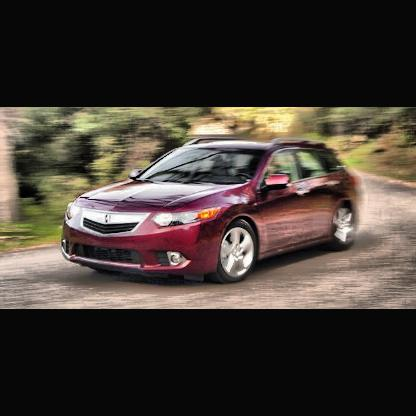Acura ZDX Hatchback 2012: (63, 137, 361, 287)
